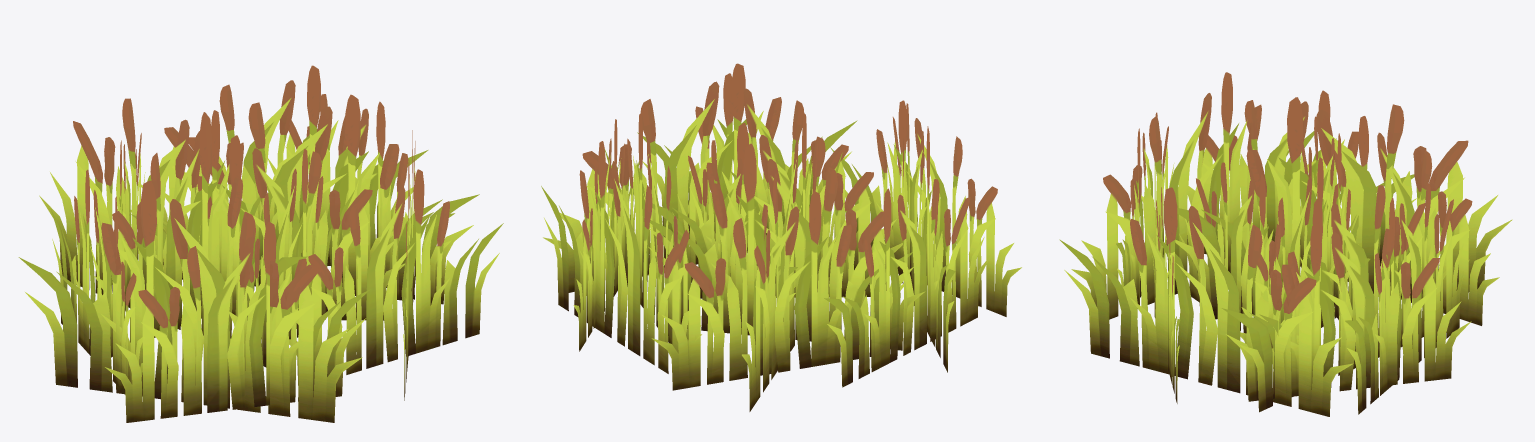
Rendered from SM_Env_Grass_Tall_Clump_03.glb.
3 renders of one model, left to right at view 1: azimuth 30°, elevation 25°; view 2: azimuth 150°, elevation 25°; view 3: azimuth 270°, elevation 25°, orthographic. The views are drawn at different scales.
Parts seen in each view (by area): view 1: SM_Env_Grass_Tall_Clump_03; view 2: SM_Env_Grass_Tall_Clump_03; view 3: SM_Env_Grass_Tall_Clump_03.
Part boxes in pixels (x1,y1,x2,y2): SM_Env_Grass_Tall_Clump_03: (18,65,503,422); SM_Env_Grass_Tall_Clump_03: (541,63,1021,411); SM_Env_Grass_Tall_Clump_03: (1059,72,1512,416).
Size of the model in its own units: 1.72 by 0.9937 by 1.73.
1 material, 1 textured.
